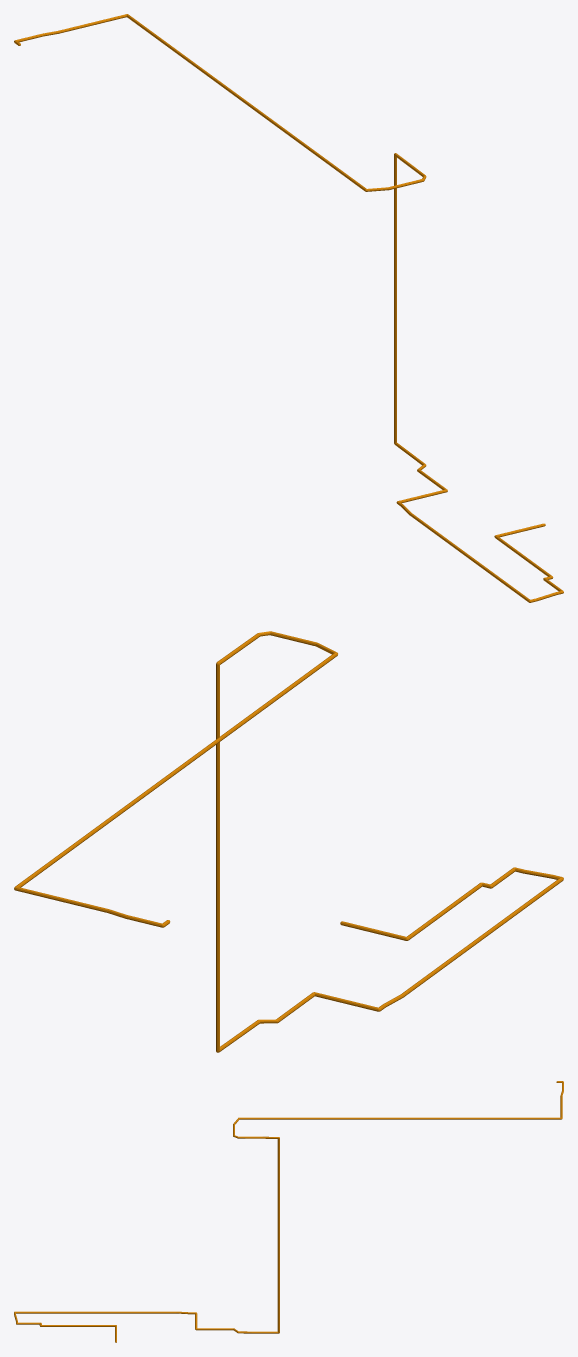
3 views of the same model, one above another, from view 1: azimuth 30°, elevation 25°; view 2: azimuth 150°, elevation 25°; view 3: azimuth 270°, elevation 25° (orthographic). The views are drawn at different scales.
Size of the model in its own units: 1450 by 2020 by 5118.
